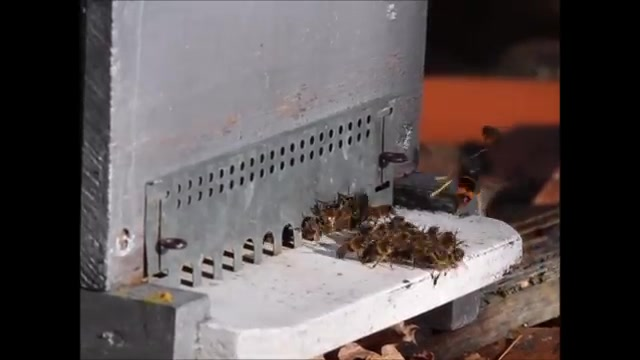bee: (305, 196, 396, 226), (395, 225, 461, 264), (342, 229, 395, 264)
hornet: (449, 141, 488, 207)
